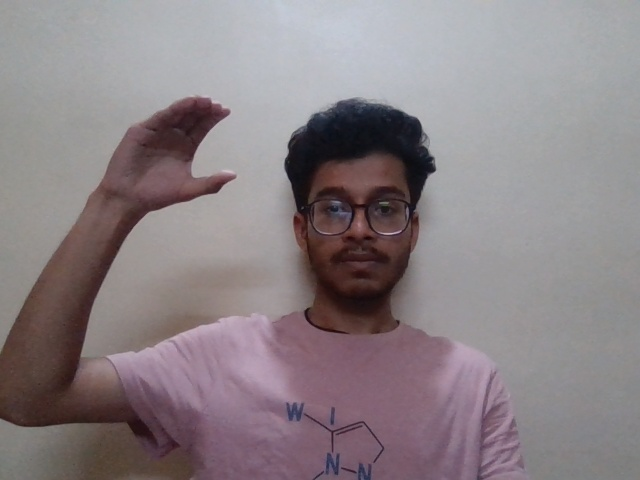C: (92, 93, 246, 226)
